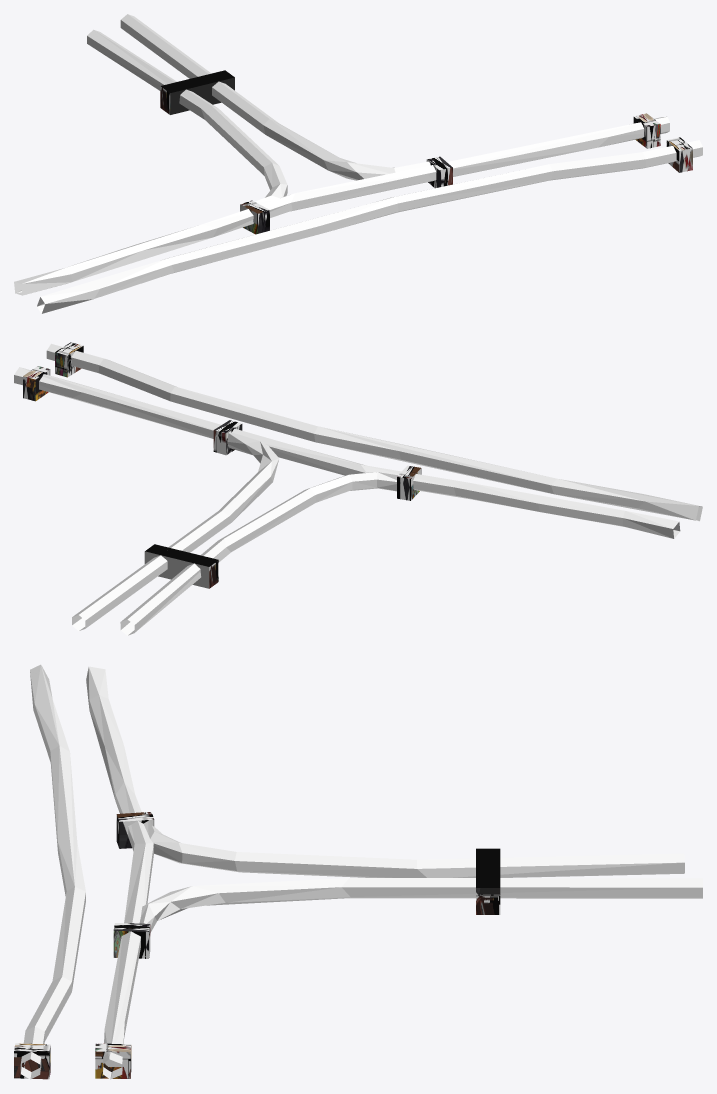
3 renders of one model, top to bottom at view 1: azimuth 30°, elevation 25°; view 2: azimuth 150°, elevation 25°; view 3: azimuth 270°, elevation 25°, orthographic. The views are drawn at different scales.
Size of the model in its own units: 1 by 0.0321 by 0.7376.
